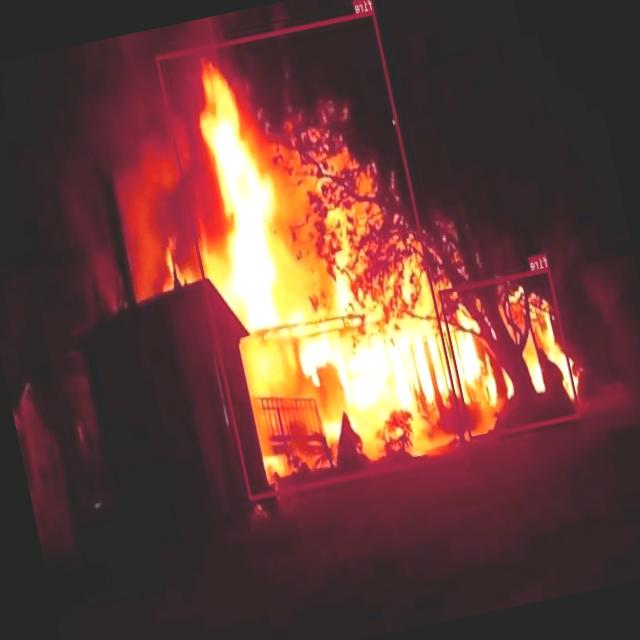fire: (156, 9, 468, 498), (438, 266, 580, 439)
